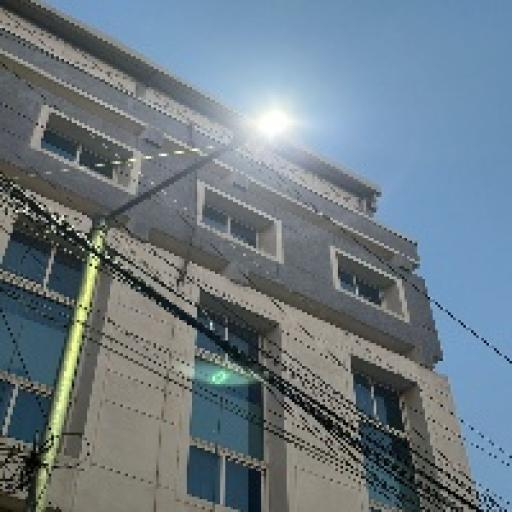Working: (226, 102, 305, 159)
